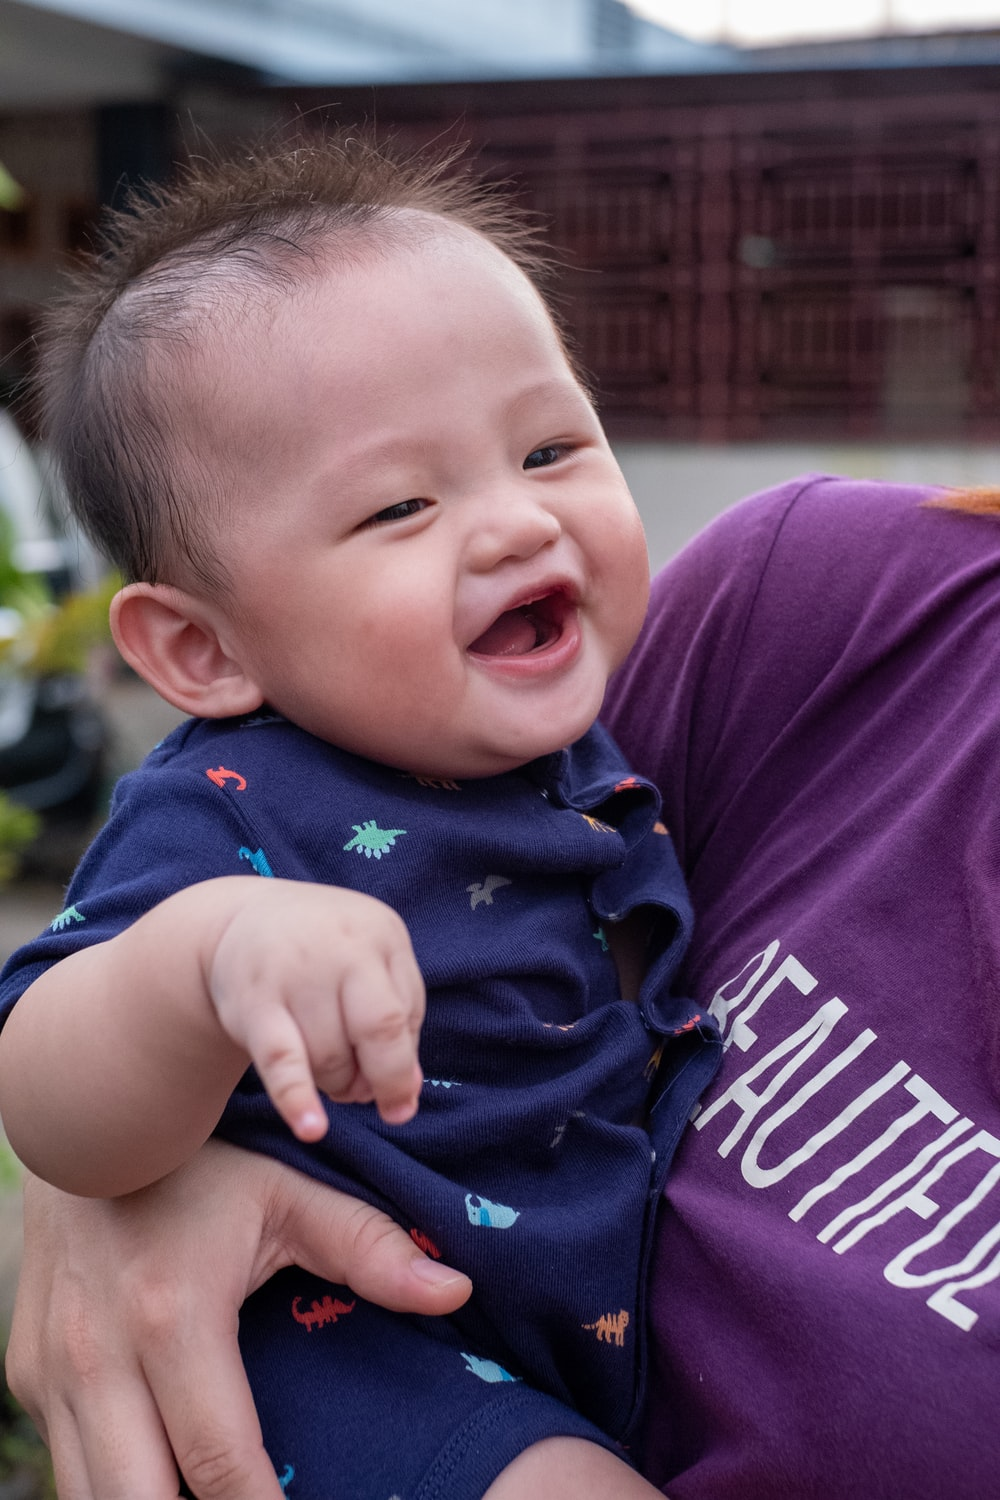face: (76, 163, 669, 786)
